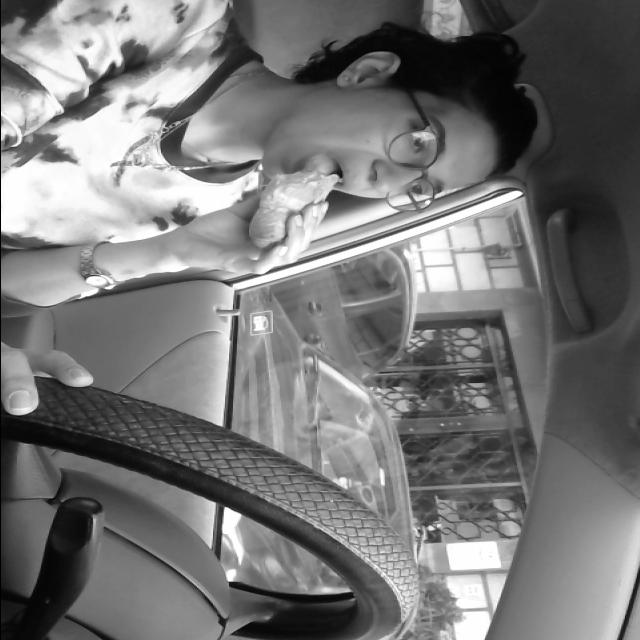eating: (222, 170, 356, 250)
